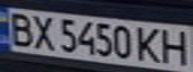0: (112, 22, 136, 61)
4: (75, 19, 96, 56)
5: (54, 16, 78, 54), (93, 20, 115, 57)
B: (3, 9, 36, 47)
H: (157, 27, 193, 66)
K: (133, 25, 163, 64)
X: (27, 12, 57, 52)
